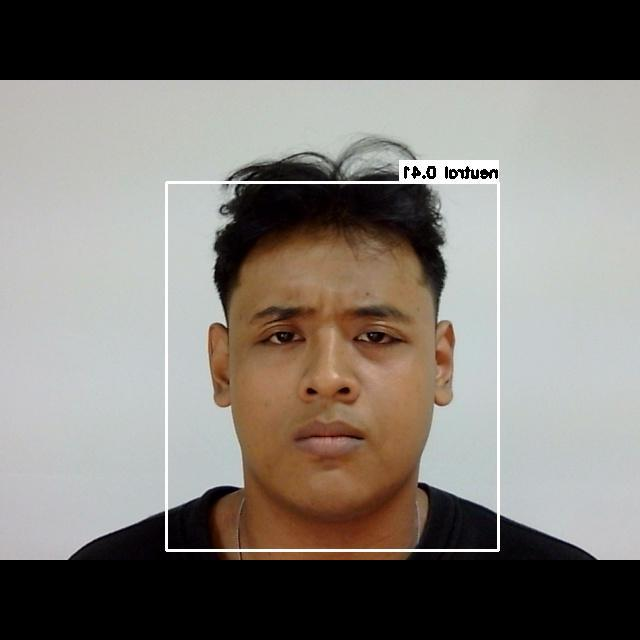Angry: (209, 258, 445, 471)
